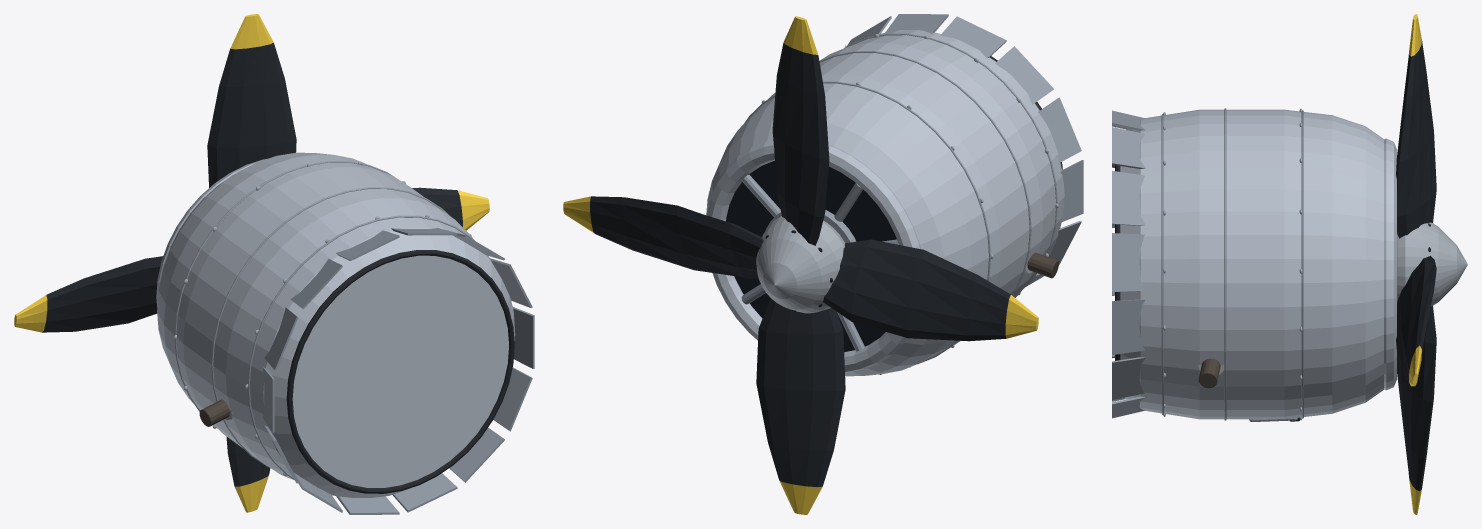
The model's file is b29_engine.glb.
3 renders of one model, left to right at view 1: azimuth 30°, elevation 25°; view 2: azimuth 150°, elevation 25°; view 3: azimuth 270°, elevation 25°, orthographic.
Parts seen in each view (by area): view 1: B29_Cowling, rear_mount_face, cowl_flaps, prop_blade_2, prop_blade_3, rear_mount_gasket, prop_blade_4, prop_blade_1, cowling_panel_seam, cowling_panel_seam.001, cowling_panel_seam.002, cooling_inlet_lip; view 2: B29_Cowling, prop_blade_3, prop_blade_4, prop_blade_2, prop_blade_1, cooling_inlet_lip, cowl_flaps, prop_hub, cooling_inlet_shadow, cowling_panel_seam.001, cowling_panel_seam.002, cowling_panel_seam (+1 smaller); view 3: B29_Cowling, cowl_flaps, prop_blade_2, prop_blade_4, prop_blade_1, prop_hub, cooling_inlet_lip, cowling_panel_seam.001, cowling_panel_seam, cowling_panel_seam.002, exhaust_outlet_R.
Part boxes in pixels (<box>): B29_Cowling: <box>157,152,515,497</box>; rear_mount_face: <box>292,255,508,487</box>; cowl_flaps: <box>262,228,534,514</box>; prop_blade_2: <box>207,14,296,187</box>; prop_blade_3: <box>14,256,163,332</box>; rear_mount_gasket: <box>286,250,514,493</box>; prop_blade_4: <box>226,436,270,512</box>; prop_blade_1: <box>412,187,489,230</box>; cowling_panel_seam: <box>247,215,489,479</box>; cowling_panel_seam.001: <box>211,187,449,467</box>; cowling_panel_seam.002: <box>174,161,394,411</box>; cooling_inlet_lip: <box>156,158,267,307</box>; B29_Cowling: <box>706,30,1064,376</box>; prop_blade_3: <box>823,239,1038,341</box>; prop_blade_4: <box>756,298,845,514</box>; prop_blade_2: <box>772,16,829,245</box>; prop_blade_1: <box>563,196,763,278</box>; cooling_inlet_lip: <box>706,140,920,372</box>; cowl_flaps: <box>844,14,1083,286</box>; prop_hub: <box>756,216,844,313</box>; cooling_inlet_shadow: <box>726,160,896,351</box>; cowling_panel_seam.001: <box>819,51,1031,295</box>; cowling_panel_seam.002: <box>744,81,990,363</box>; cowling_panel_seam: <box>845,33,1057,288</box>; B29_Cowling: <box>1120,109,1383,419</box>; cowl_flaps: <box>1112,110,1145,418</box>; prop_blade_2: <box>1396,14,1436,238</box>; prop_blade_4: <box>1397,305,1436,514</box>; prop_blade_1: <box>1396,255,1436,386</box>; prop_hub: <box>1397,222,1467,306</box>; cooling_inlet_lip: <box>1384,138,1396,390</box>; cowling_panel_seam.001: <box>1224,108,1226,420</box>; cowling_panel_seam: <box>1161,114,1163,414</box>; cowling_panel_seam.002: <box>1301,110,1303,418</box>; exhaust_outlet_R: <box>1198,358,1220,388</box>.
Size of the model in its own units: 2.96 by 2.96 by 1.93.
